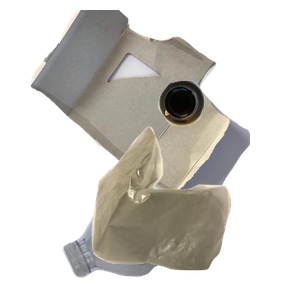glass: (156, 78, 300, 197)
paper: (28, 10, 268, 190)
plastic: (60, 190, 300, 280)
trash: (89, 124, 300, 300)
